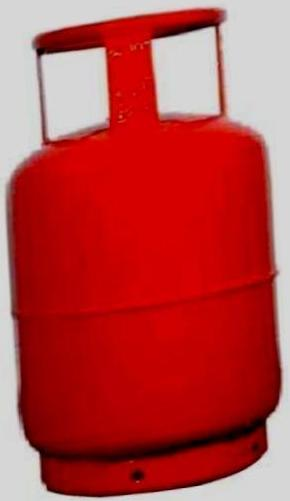cylinder: (0, 1, 290, 501)
